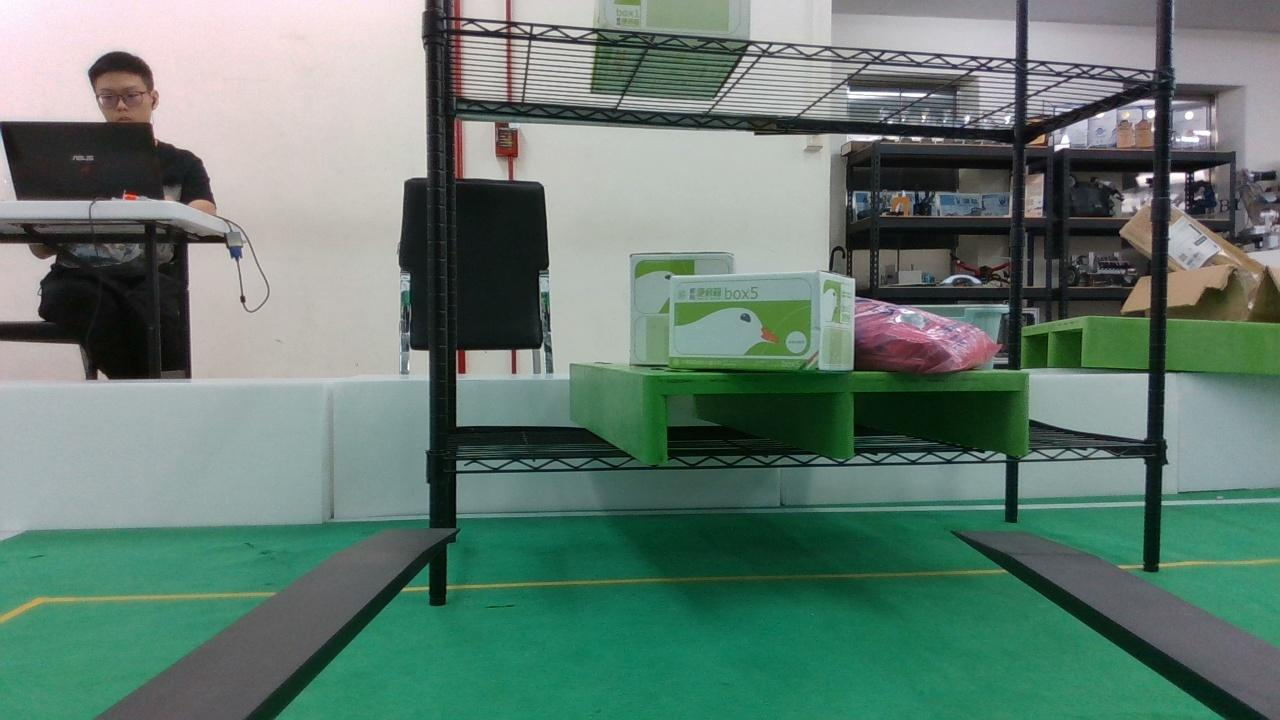Pallet: (642, 373, 1029, 464)
